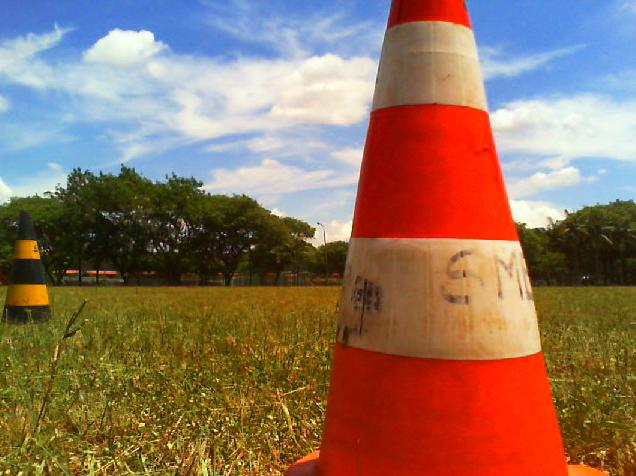0 cone: (282, 0, 610, 476), (2, 211, 52, 325)
